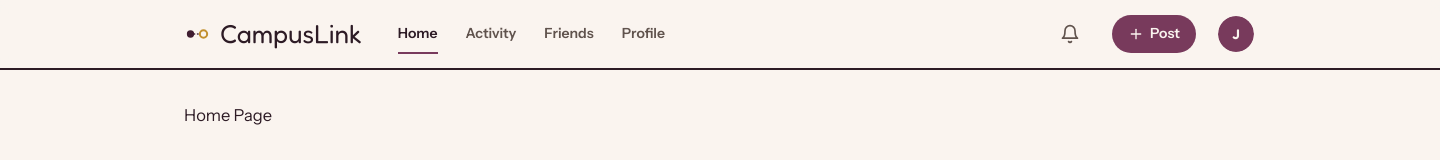
Test: navigation targets › clicking Post navigates to the Post Request route
What coordinates should you click on to do the following:
click the link "Post"
I would click on:
 (1154, 34)
Its box is [1112,15,1196,53].
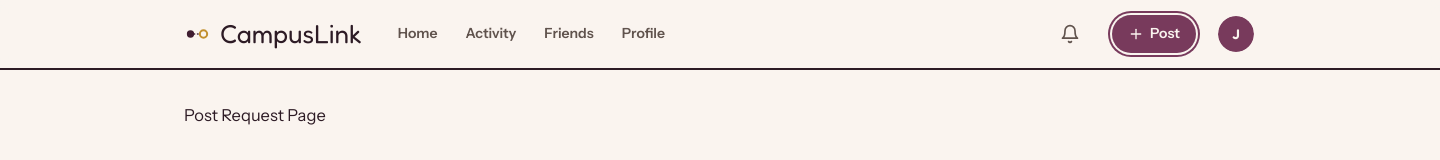
Expected: the text "Post Request Page" is shown, [184,105,326,125]
